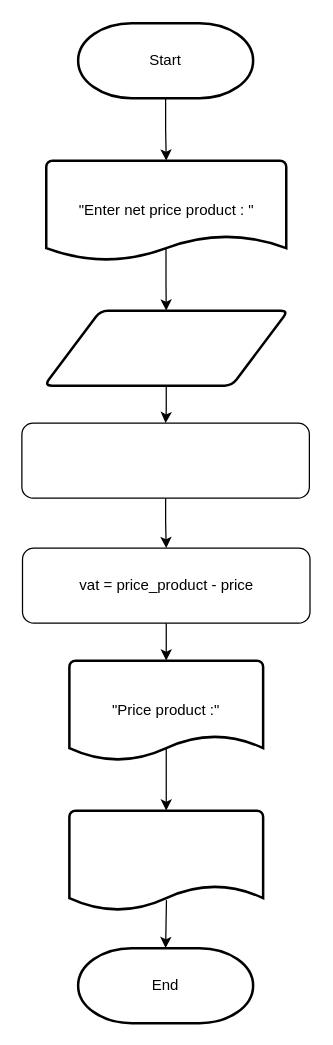
The diagram is 333 pixels wide and 1045 high, and some of its shapes have lost their labels. The shapes that lost their labels are listed below. From the top down, each one's centre as x and y in pixels, then its label:
point 165,347: INPUT : price_product
point 165,460: price = price_product/ 1.07
point 166,860: "Vat product :"
